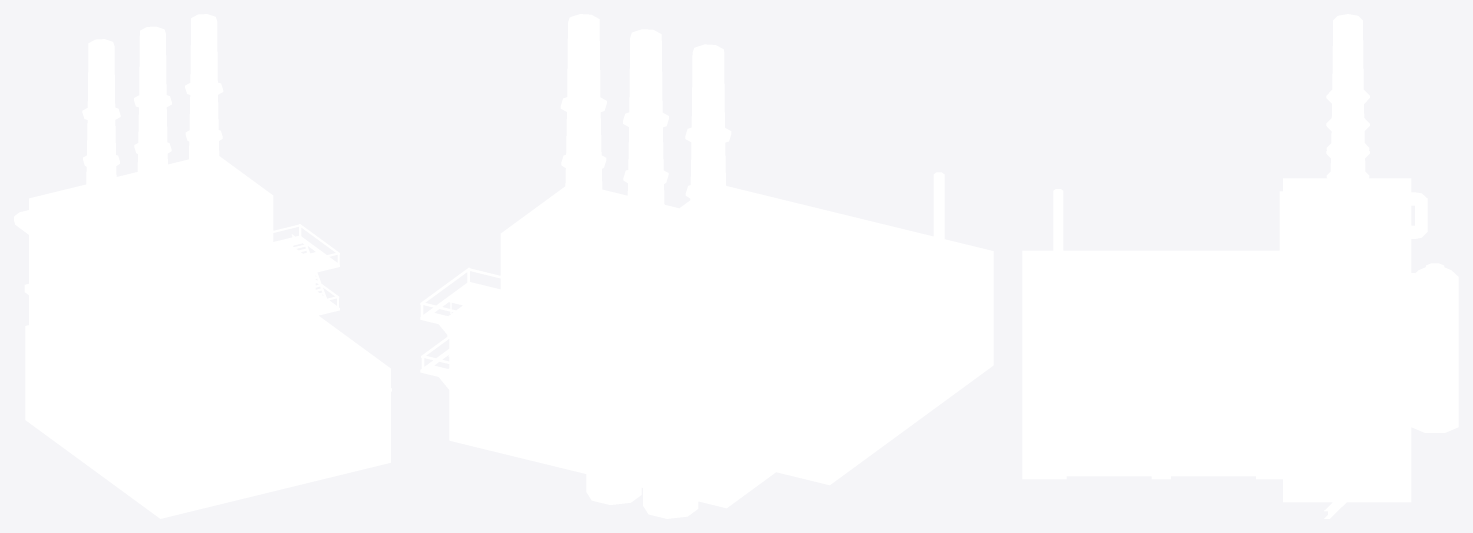
File: incineration-plant.glb
3 views of the same model, side by side, from view 1: azimuth 30°, elevation 25°; view 2: azimuth 150°, elevation 25°; view 3: azimuth 270°, elevation 25° (orthographic). The views are drawn at different scales.
Parts seen in each view (by area): view 1: incineration-plant; view 2: incineration-plant; view 3: incineration-plant.
Part boxes in pixels (x1=…): incineration-plant: x1=14, y1=14, x2=391, y2=518; incineration-plant: x1=420, y1=14, x2=993, y2=518; incineration-plant: x1=1022, y1=14, x2=1458, y2=518.
Bounding box in the file's own units: 23.02 × 23.88 × 24.65.
Materials: 1 (1 with a texture image).
